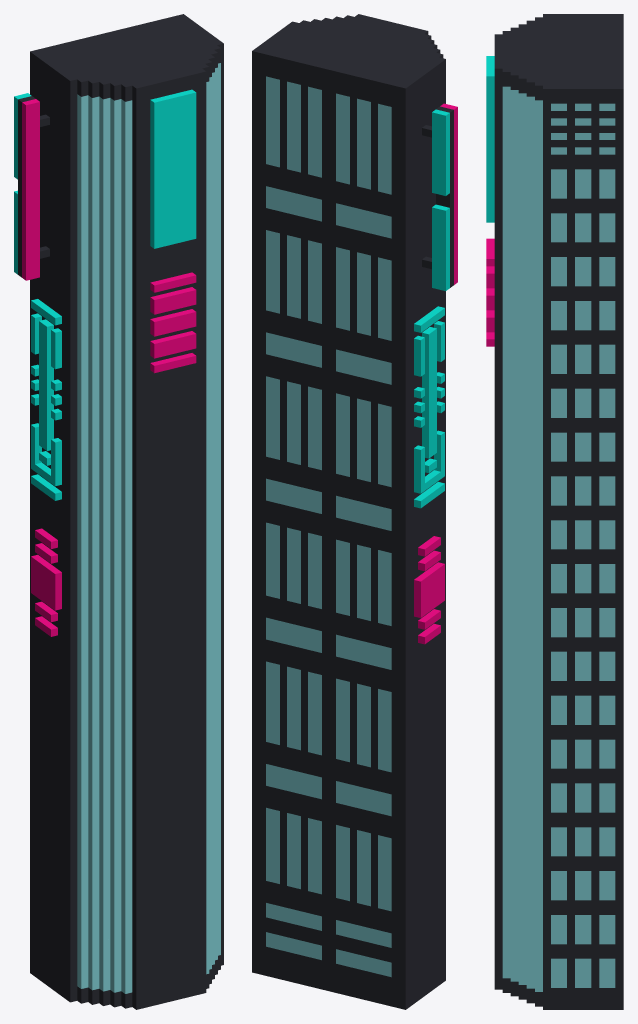
3 renders of one model, left to right at view 1: azimuth 30°, elevation 25°; view 2: azimuth 150°, elevation 25°; view 3: azimuth 270°, elevation 25°, orthographic.
Parts seen in each view (by area): view 1: Cube.1866; view 2: Cube.1866; view 3: Cube.1866.
Part boxes in pixels (box(x1,y1,x2,y2)): Cube.1866: box(14, 14, 223, 1009); Cube.1866: box(252, 14, 457, 1009); Cube.1866: box(486, 14, 623, 1009).
Bounding box in the file's own units: 2600 × 12600 × 1700.
